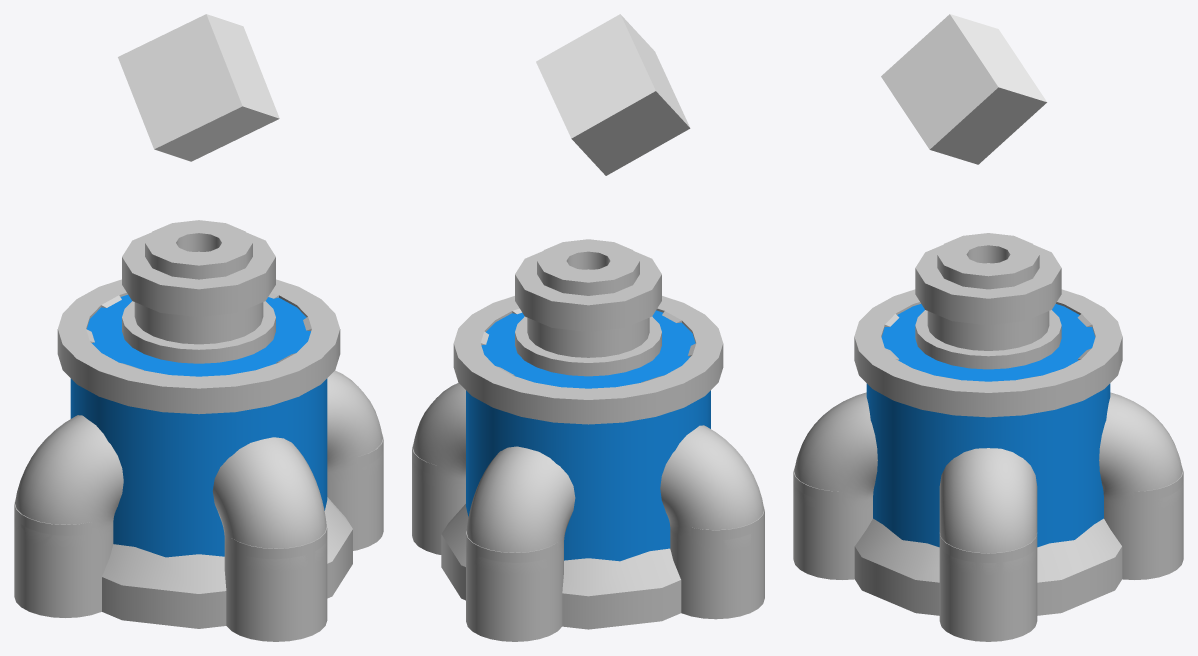
Rendered from CurrencySupportBuilding.fbx.
The picture shows the model from 3 angles, left to right: view 1: azimuth 30°, elevation 25°; view 2: azimuth 150°, elevation 25°; view 3: azimuth 270°, elevation 25°; orthographic projection. The views are drawn at different scales.
Visible parts, largest first — view 1: mergedBlocks; view 2: mergedBlocks; view 3: mergedBlocks.
Part boxes in pixels (box(x1,y1,x2,y2)): mergedBlocks: box(14, 14, 383, 641); mergedBlocks: box(412, 14, 764, 641); mergedBlocks: box(793, 14, 1183, 641).
Bounding box in the file's own units: 8 × 12.21 × 8.
